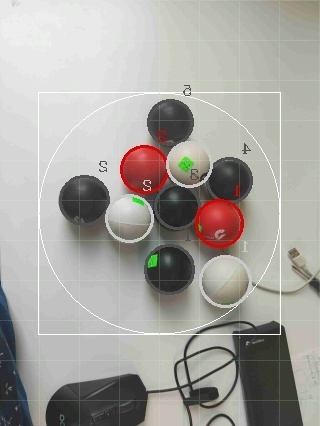Pelota blanca: (173, 342, 238, 408), (199, 254, 252, 307), (103, 193, 156, 243), (167, 140, 212, 187), (141, 390, 193, 425), (205, 411, 238, 425)
Pelota negra: (45, 371, 151, 425), (58, 174, 111, 227), (143, 244, 196, 296), (146, 97, 196, 147), (207, 156, 254, 203), (157, 185, 199, 232)
Pelota roja: (119, 142, 169, 195), (194, 198, 246, 248)
